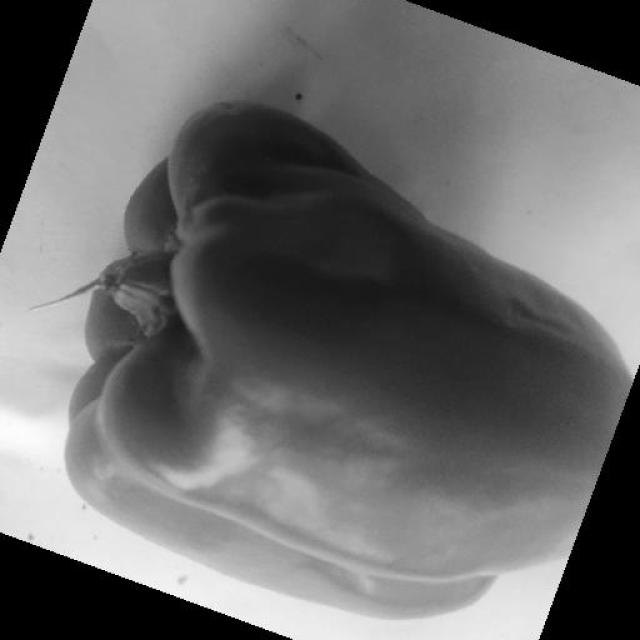Stale_Capsicum: (168, 126, 640, 490)
